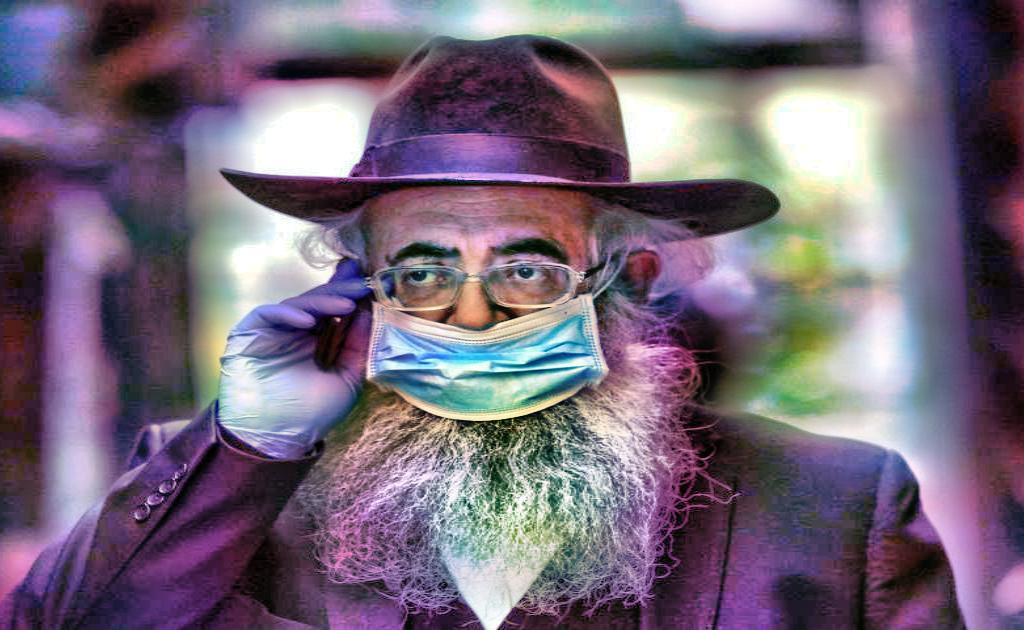mask_weared_incorrect: (345, 192, 657, 427)
